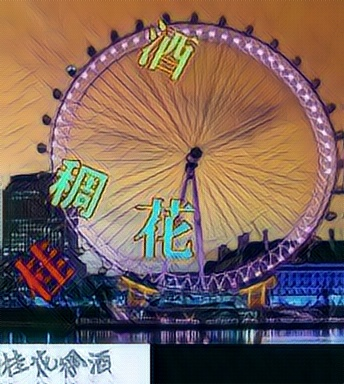B3ED: (47, 152, 110, 219)
B9F0: (12, 236, 75, 303)
BBA8: (134, 194, 197, 261)
BEC6: (137, 17, 200, 84)
